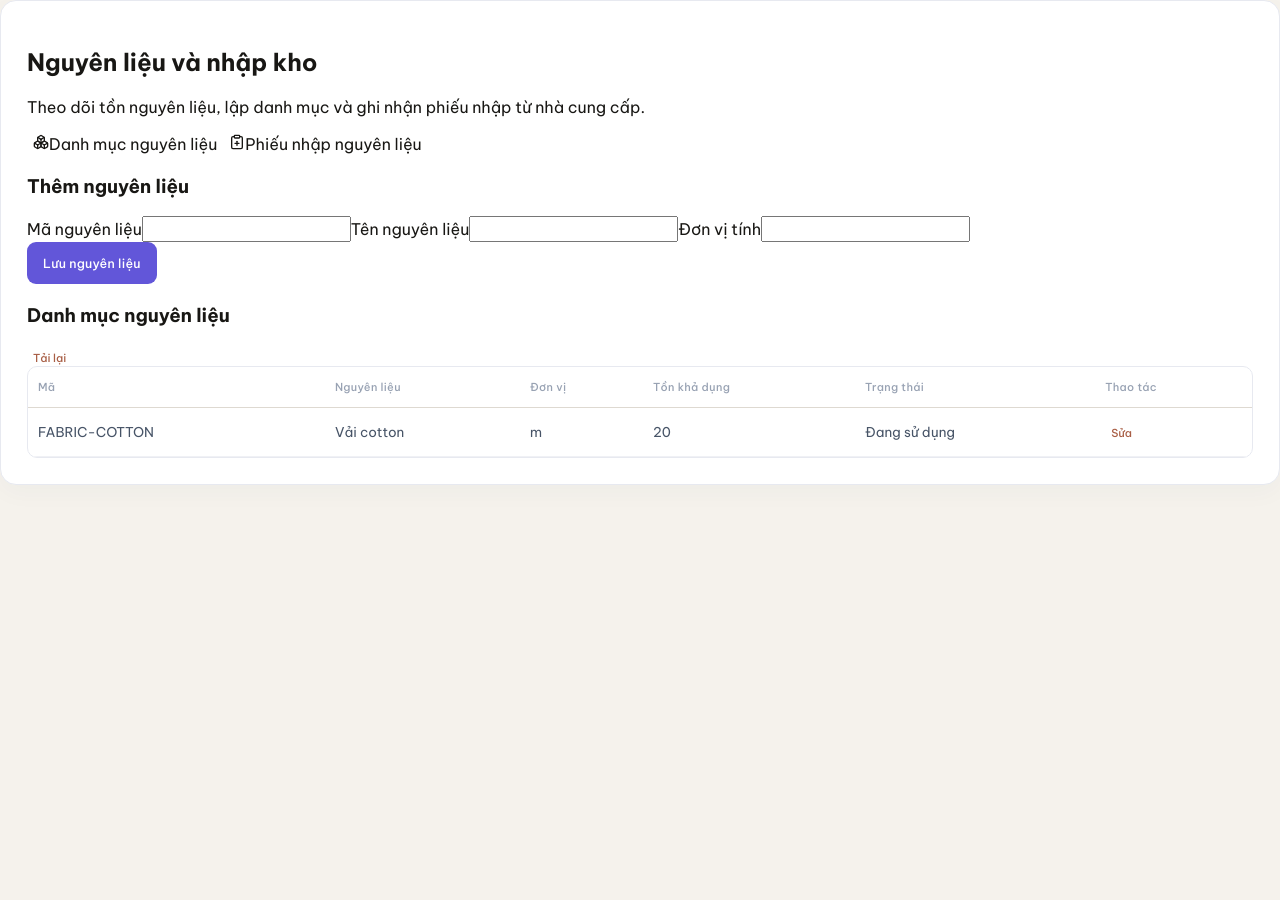
blocks an invalid receipt before sending it to the server
Expected: the text "Vải cotton" is shown, 325,407 -> 520,456
Step 1. Click the tab "Phiếu nhập nguyên liệu" → (326, 144), box 223,133 -> 428,155
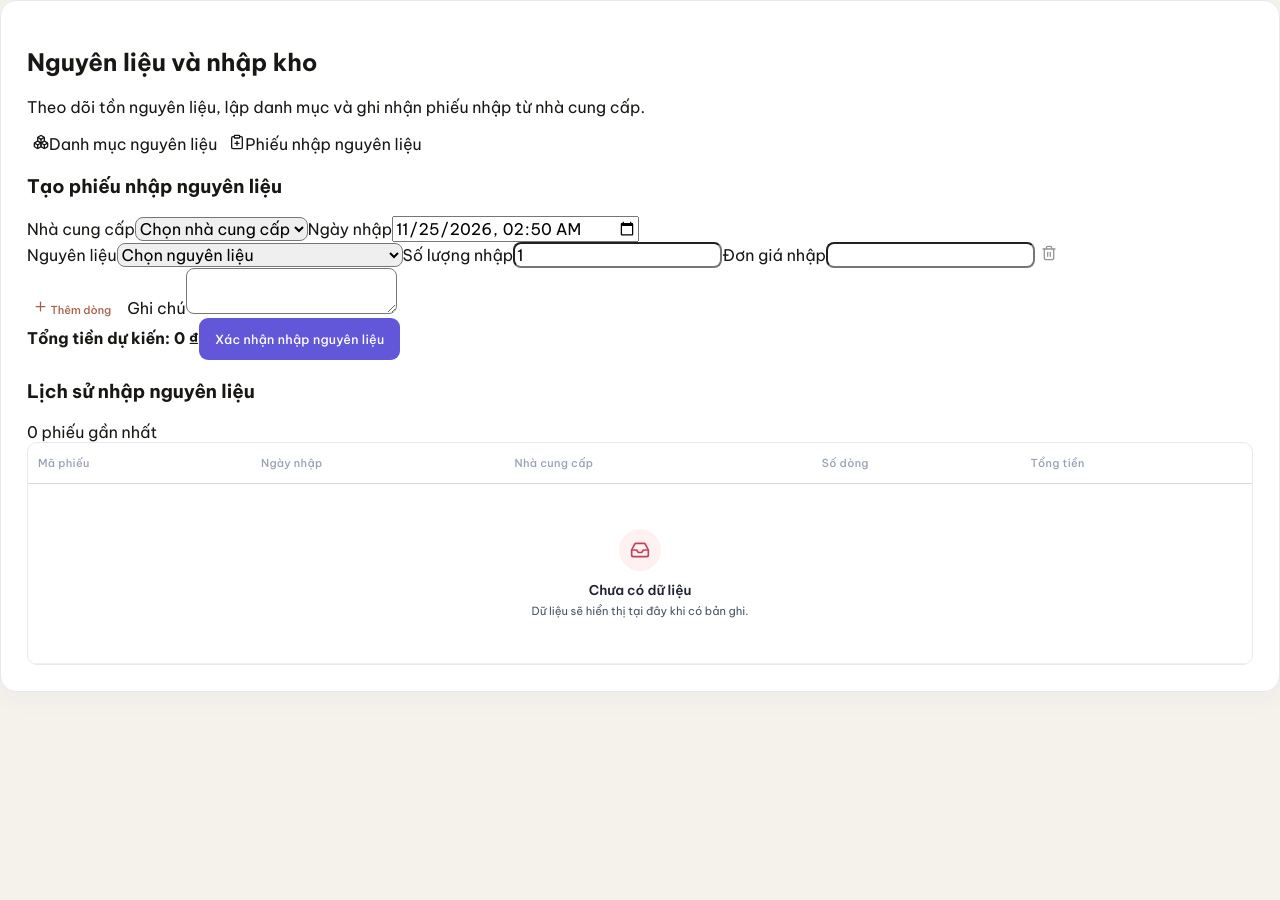
Expected: the heading "Tạo phiếu nhập nguyên liệu" is shown, 27,174 -> 282,198
Step 2. Click the button "Xác nhận nhập nguyên liệu" → (300, 339), box 199,318 -> 400,360
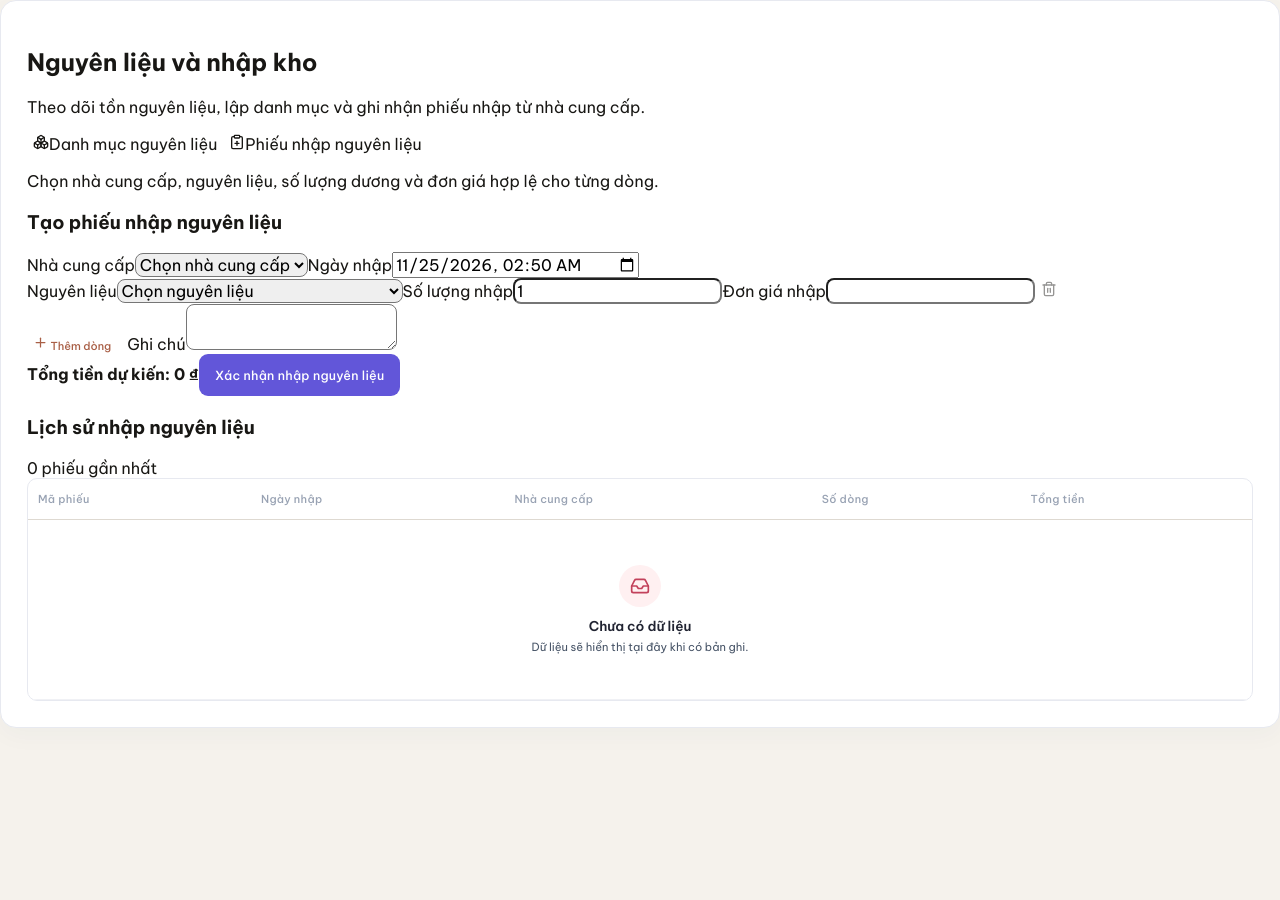
Expected: the message is shown, 27,171 -> 658,191
